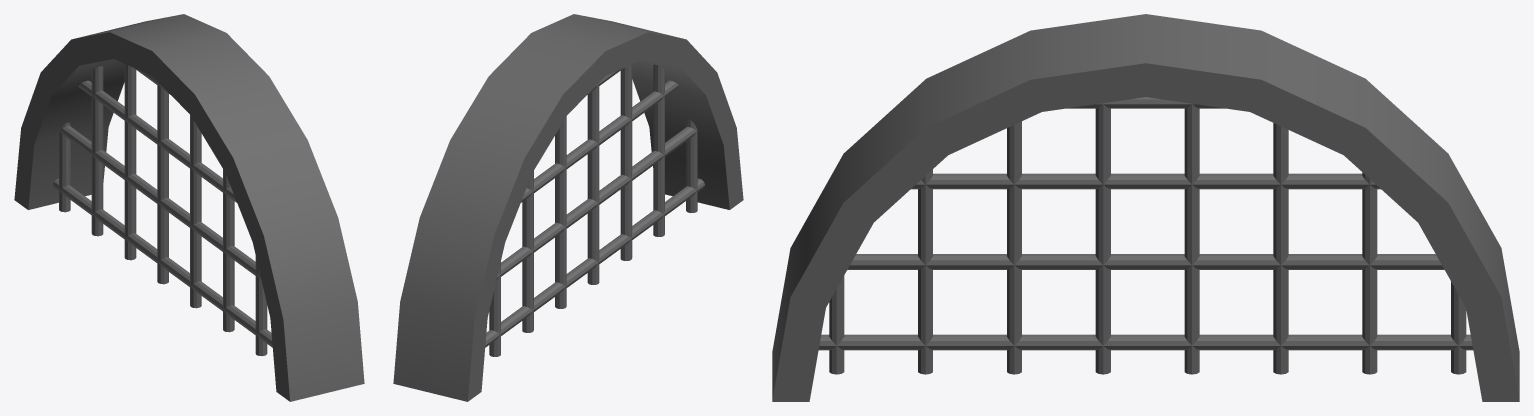
Rendered from obj_sewer_blocked_tunnel_3.fbx.
3 renders of one model, left to right at view 1: azimuth 30°, elevation 25°; view 2: azimuth 150°, elevation 25°; view 3: azimuth 270°, elevation 25°, orthographic. The views are drawn at different scales.
Visible parts, largest first — view 1: obj_sewer_blocked_tunnel_3; view 2: obj_sewer_blocked_tunnel_3; view 3: obj_sewer_blocked_tunnel_3.
Part boxes in pixels (left/top/right/bottom): obj_sewer_blocked_tunnel_3: left=14, top=14, right=364, bottom=401; obj_sewer_blocked_tunnel_3: left=393, top=14, right=743, bottom=401; obj_sewer_blocked_tunnel_3: left=772, top=14, right=1519, bottom=401.
Bounding box in the file's own units: 0.8401 × 2.7 × 5.39.
Materials: 1 (1 with a texture image).
